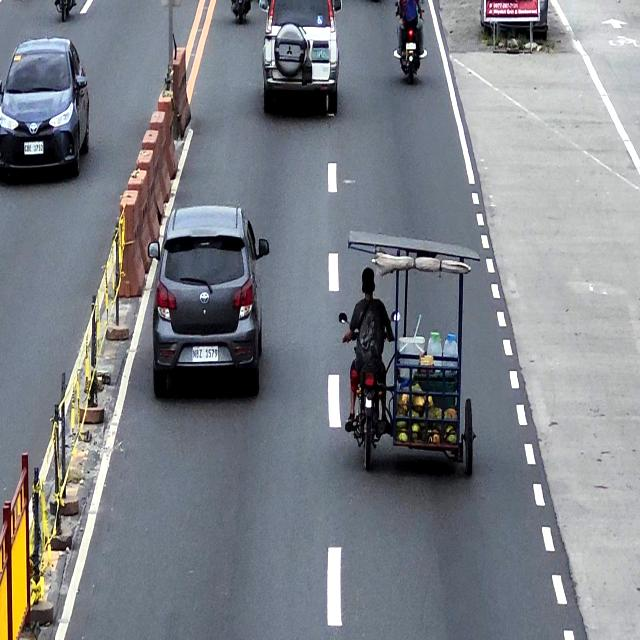Car: (149, 205, 269, 398), (0, 38, 91, 185), (258, 0, 343, 117)
License-Plate: (192, 346, 219, 364), (311, 48, 331, 62), (23, 142, 44, 154), (405, 42, 416, 51)
Motorcycle: (395, 0, 423, 84)
Tricycle: (340, 229, 478, 479)
